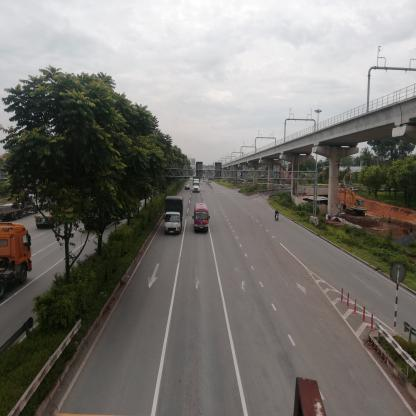bus: (193, 204, 211, 236)
car: (185, 183, 191, 192)
container: (194, 180, 201, 194)
motorbike: (275, 212, 281, 222)
truck: (166, 197, 183, 235)
